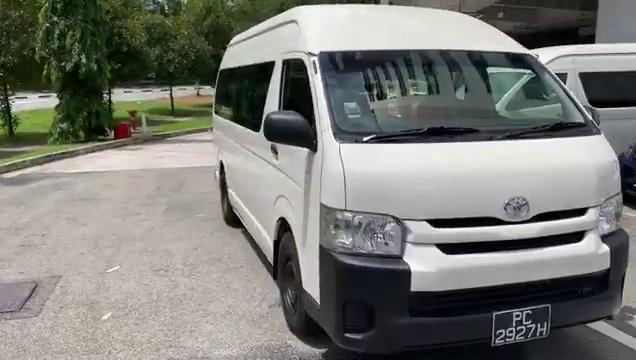van: (197, 0, 634, 349)
